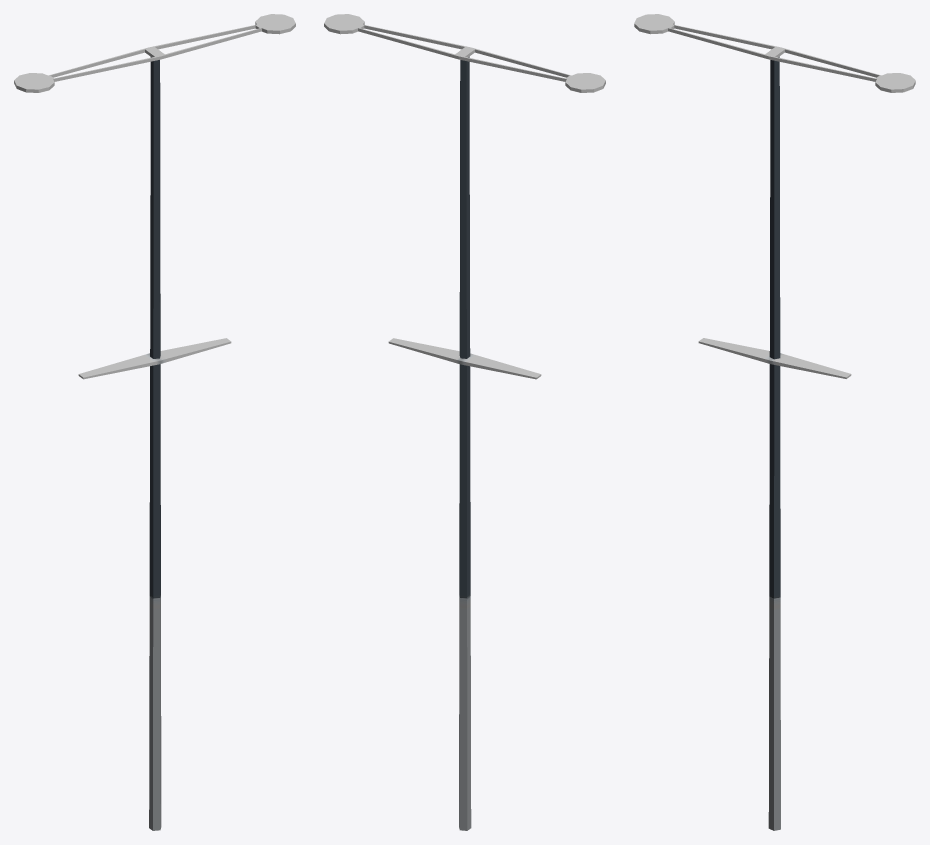
The model's file is Pillar.fbx.
3 renders of one model, left to right at view 1: azimuth 30°, elevation 25°; view 2: azimuth 150°, elevation 25°; view 3: azimuth 330°, elevation 25°, orthographic.
Parts seen in each view (by area): view 1: Pillar; view 2: Pillar; view 3: Pillar.
Boxes of the visible parts, x1,y1,x2,y2 form: Pillar: (14,14,295,830); Pillar: (324,14,605,830); Pillar: (634,14,915,830).
Bounding box in the file's own units: 15.7 × 42.14 × 1.9.
Materials: 1 (1 with a texture image).
